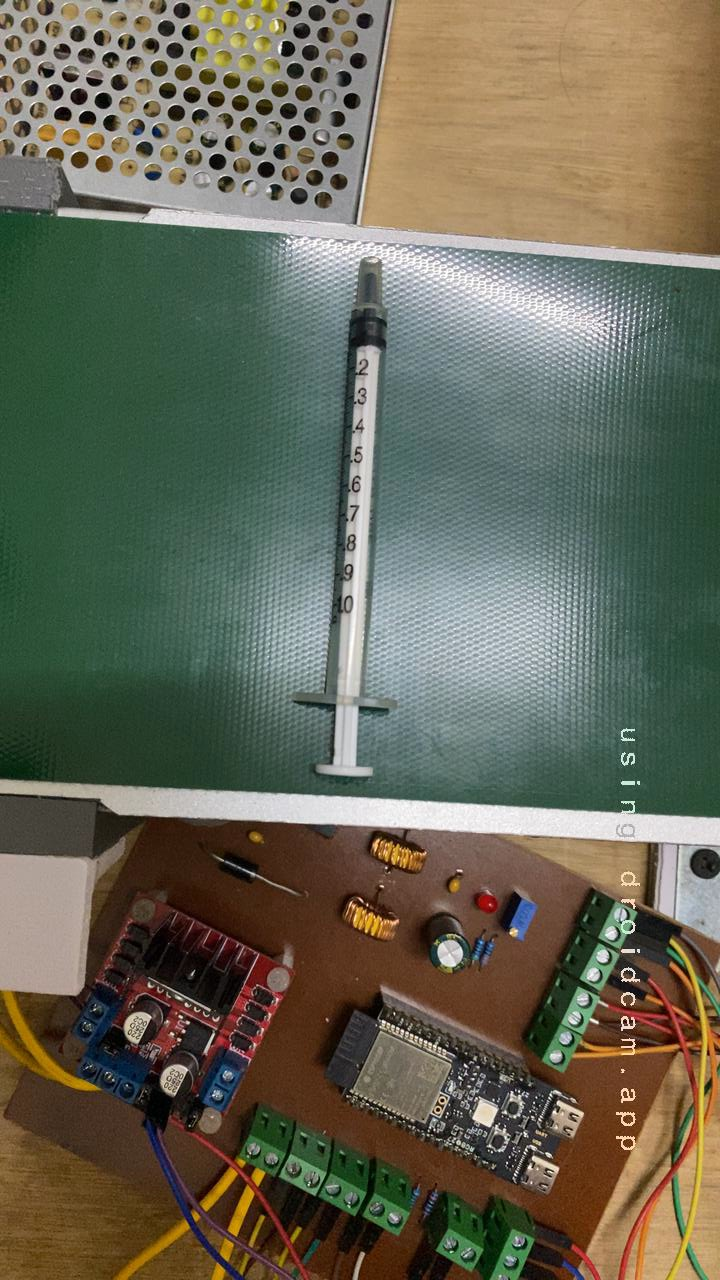syringe: (221, 258, 492, 812)
